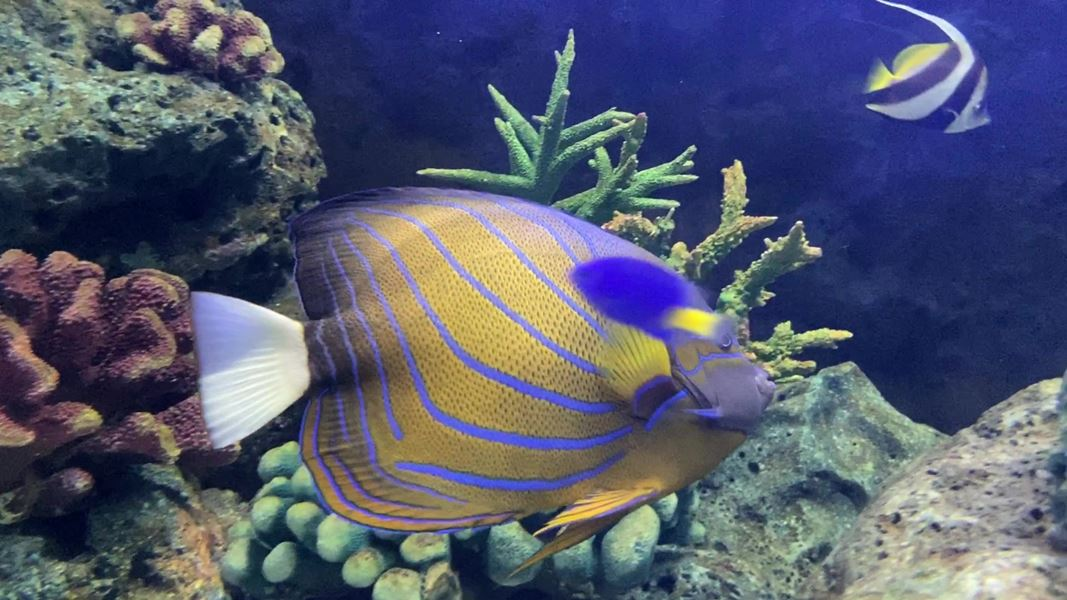Blue ring angelfish: (154, 181, 794, 599)
